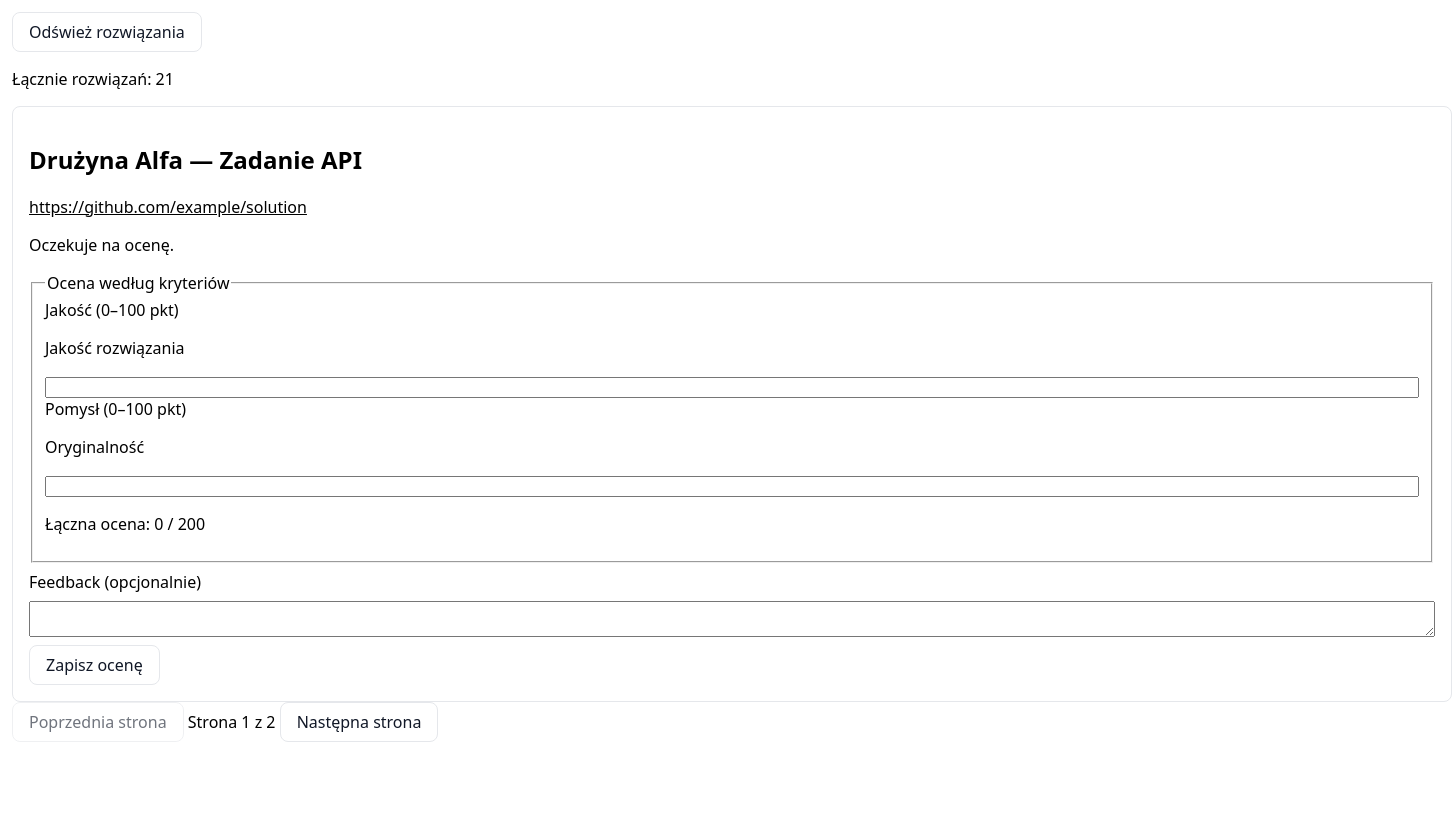
Test: SubmissionList › recovers when the last page disappears after refresh
Expected: the heading "Drużyna Alfa — Zadanie API" is shown, top-left (29, 143), bottom-right (362, 176)
Click the button "Następna strona" at (359, 722), box top-left (280, 702), bottom-right (438, 742)
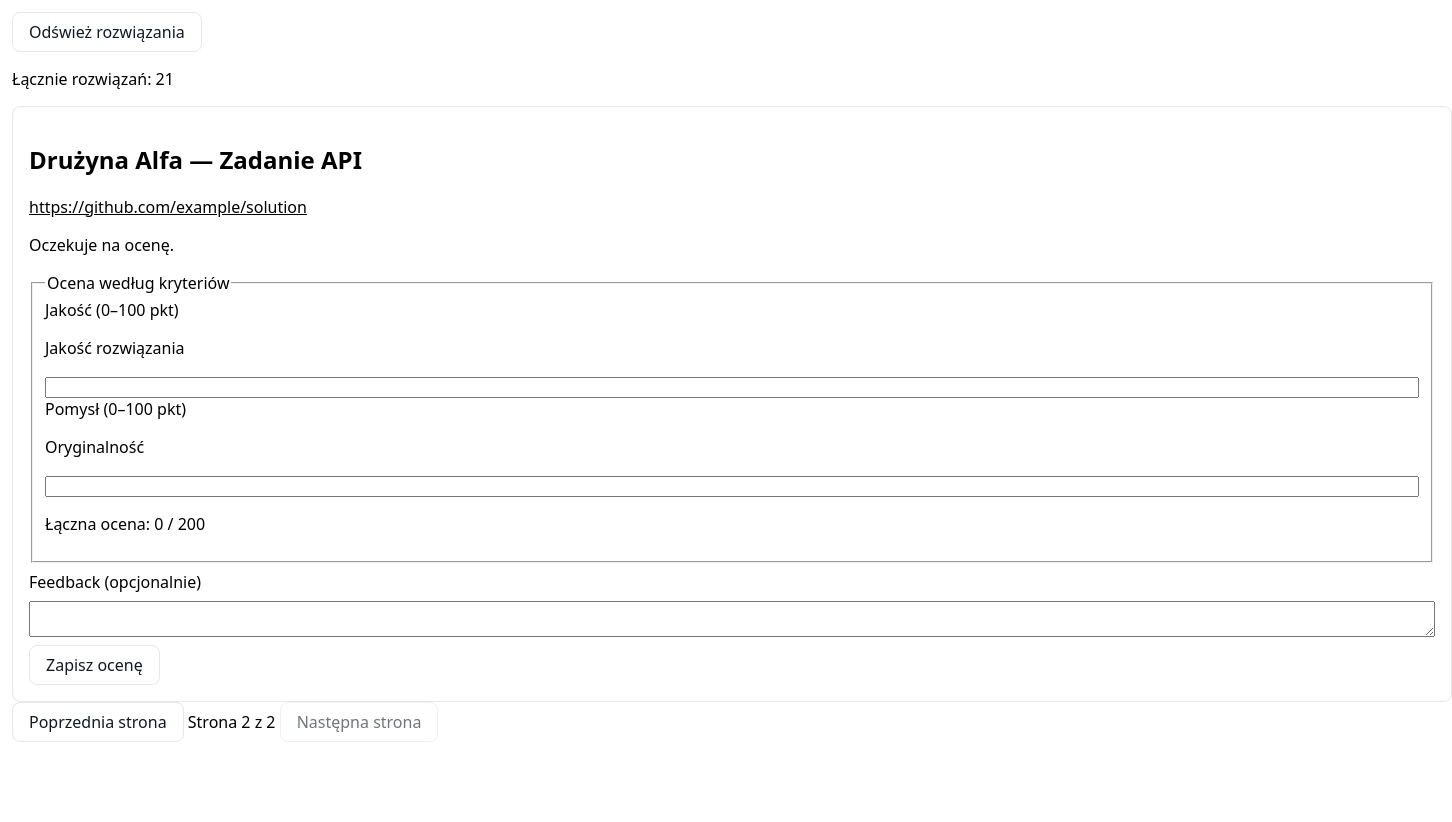
Now the text "Strona 2 z 2" is shown, box top-left (184, 711), bottom-right (280, 733)
Click the button "Odśwież rozwiązania" at (107, 32), box top-left (12, 12), bottom-right (202, 52)
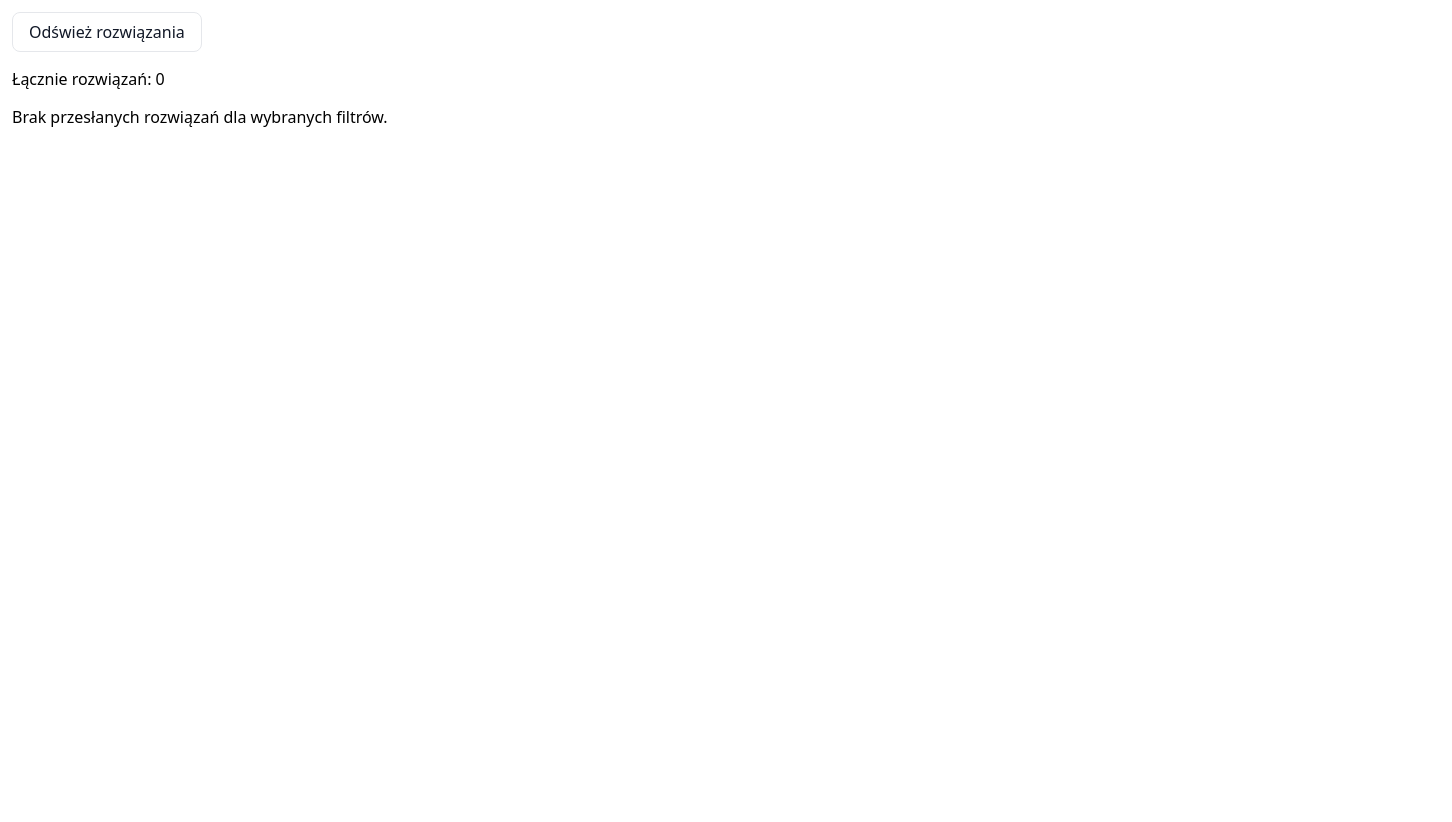
Now the text "Brak przesłanych rozwiązań dla wybranych filtrów." is shown, box top-left (12, 106), bottom-right (388, 128)
